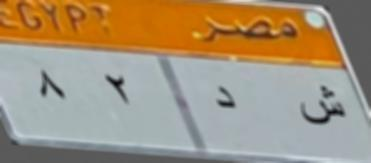2: (100, 68, 133, 107)
8: (34, 68, 69, 106)
daal: (209, 81, 240, 113)
sheen: (294, 83, 348, 128)
